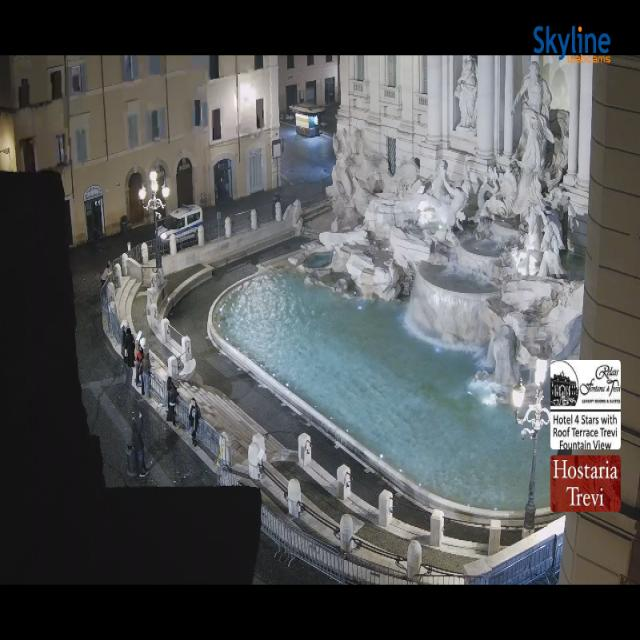person: (132, 412, 148, 477), (188, 398, 200, 447), (124, 328, 134, 384), (167, 380, 178, 427), (141, 351, 151, 397), (125, 328, 135, 369), (136, 342, 143, 387), (101, 263, 111, 287), (121, 324, 127, 363)
